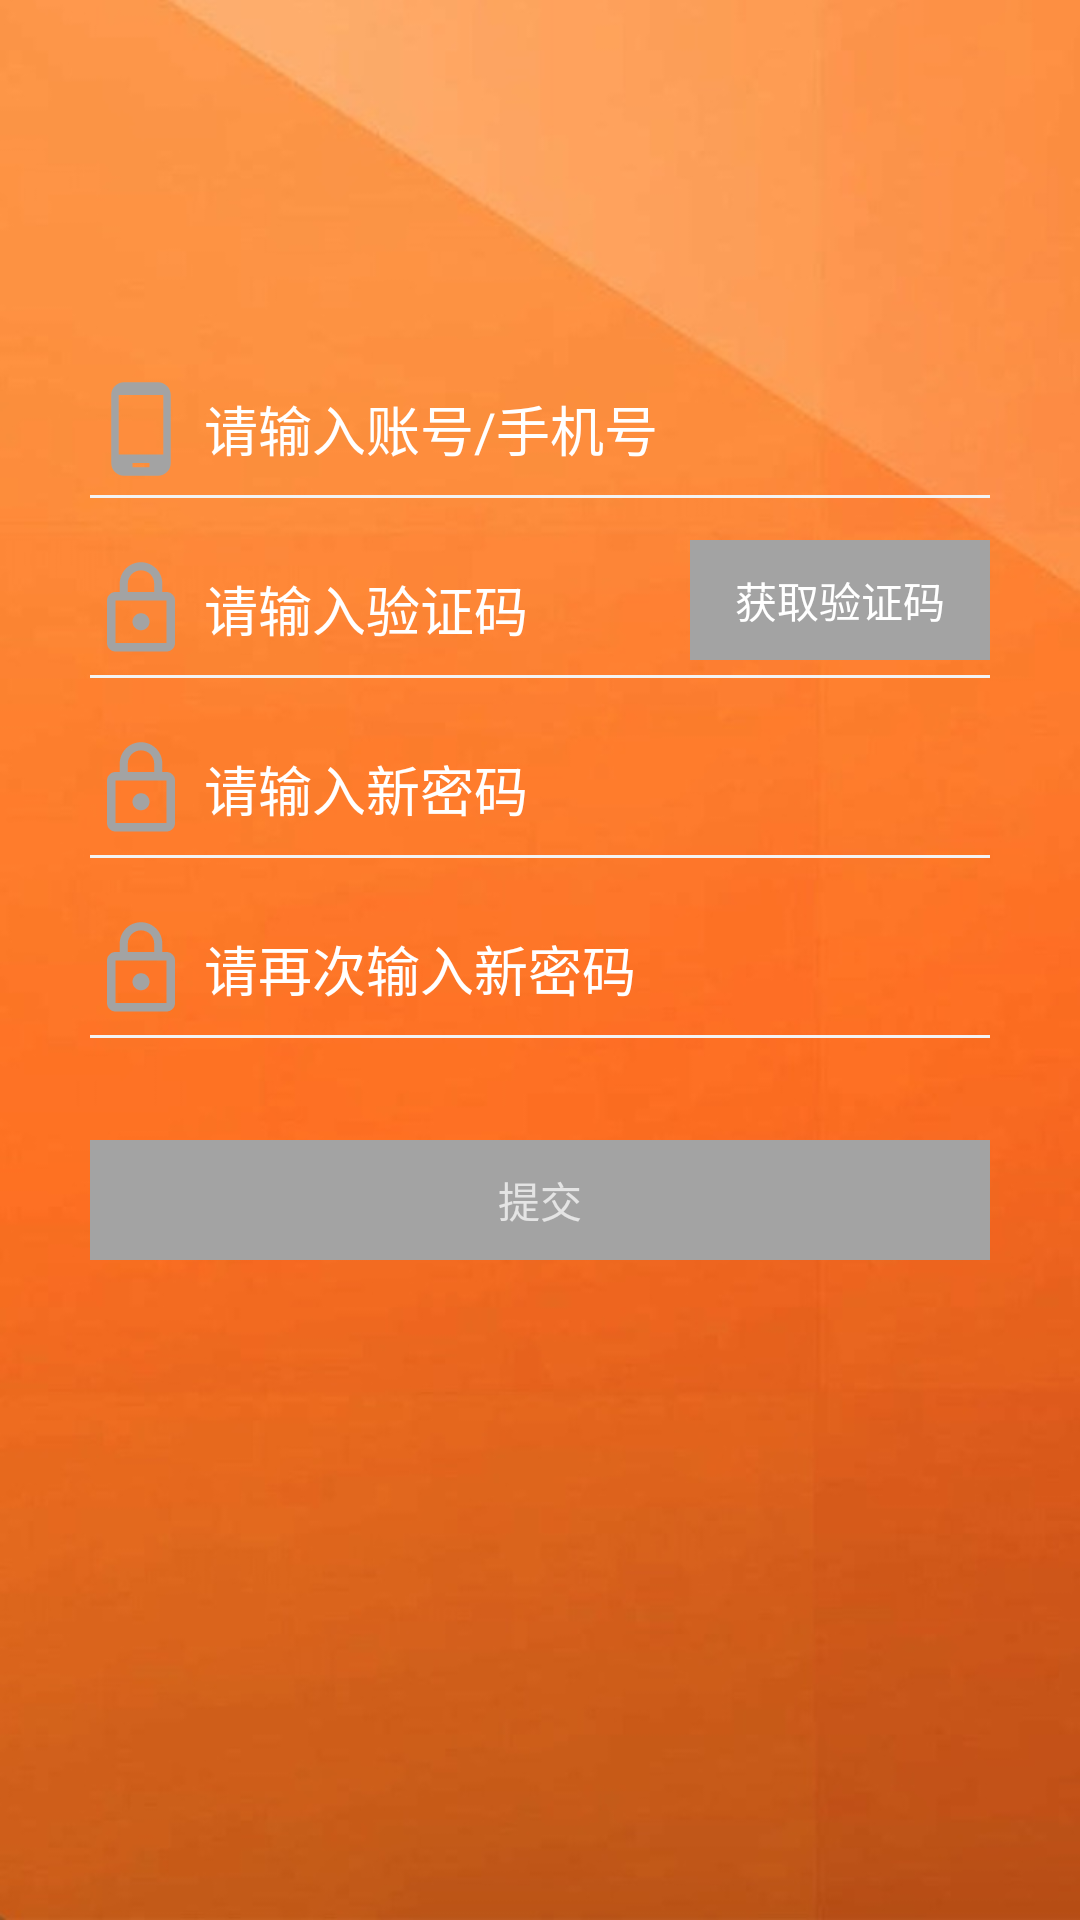

Icons on this 1080 × 1920 Android screen, each with the point to tap as point (x, y):
login account: point (141, 429)
login pass: point (141, 607), point (141, 787), point (141, 967)
